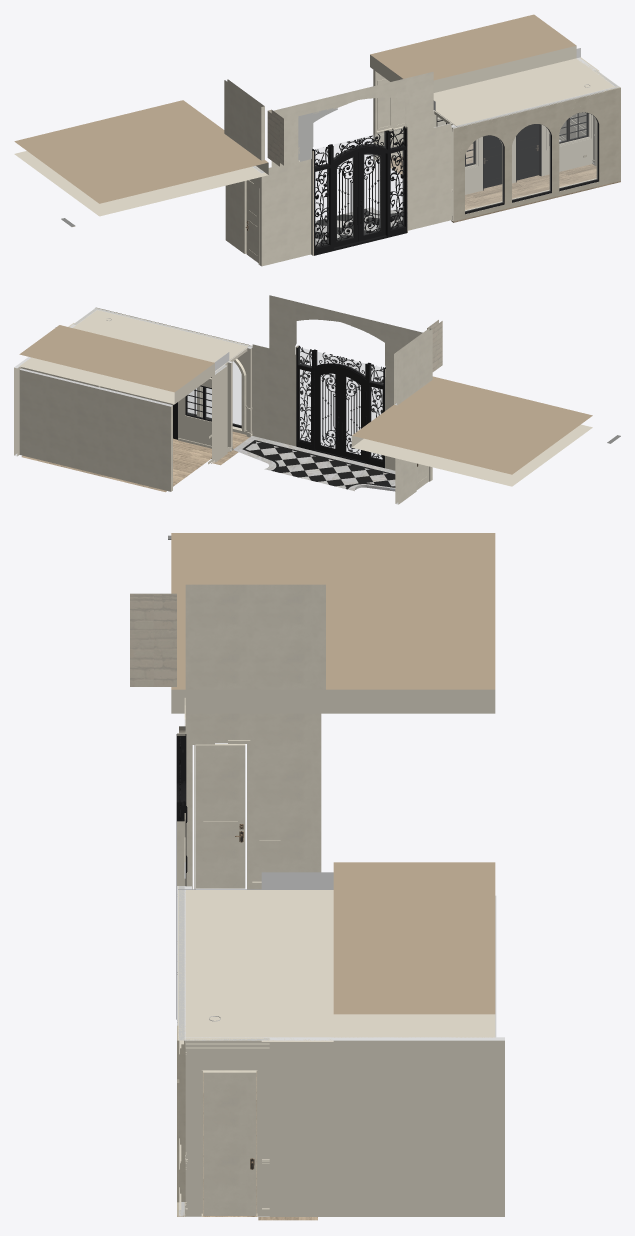
File: office-hall-ec216e2d4a14.glb
The picture shows the model from 3 angles, top to bottom: view 1: azimuth 30°, elevation 25°; view 2: azimuth 150°, elevation 25°; view 3: azimuth 270°, elevation 25°; orthographic projection. The views are drawn at different scales.
Visible parts, largest first — view 1: office-hall-look-2575515a05775d9e, office-hall-look-d5a4a1b5d3594c04, office-hall-c9e78b9ec1bb39cd, office-hall-look-34525a54e63b733b, office-hall-dbd60ee5c3733ed6, office-hall-look-bce662e26d5a5947, office-hall-c02a36d0521470a9, office-hall-38561c12898e4d43, office-hall-5cbcc744e6f960f3, office-hall-look-dbd60ee5c3733ed6, office-hall-look-746250f96522f643, office-hall-c374268555806af8 (+22 smaller); view 2: office-hall-look-2575515a05775d9e, office-hall-look-19647d6da46c2b80, office-hall-look-d5a4a1b5d3594c04, office-hall-look-34525a54e63b733b, office-hall-dbd60ee5c3733ed6, office-hall-look-e388ad8855329420, office-hall-look-3231f73bae020736, office-hall-look-bce662e26d5a5947, office-hall-look-746250f96522f643, office-hall-look-b3086b8cd368d7da, office-hall-look-26f615ec640e02ab, office-hall-look-6a051330000fbca1 (+19 smaller); view 3: office-hall-look-2575515a05775d9e, office-hall-look-6a1144f4e43410bb, office-hall-look-746250f96522f643, office-hall-look-85f0fd939e0fcc78, office-hall-dbd60ee5c3733ed6, office-hall-look-dbd60ee5c3733ed6, office-hall-cf6d22c5317ced0b, office-hall-look-3322bc58bedf5620, office-hall-68d06b361ac47823, office-hall-look-5e296beffb47d853, office-hall-c9e78b9ec1bb39cd, office-hall-look-bce662e26d5a5947.
Part boxes in pixels (x1,y1,x2,y2): office-hall-look-2575515a05775d9e: [14, 14, 576, 216]; office-hall-look-d5a4a1b5d3594c04: [261, 123, 451, 266]; office-hall-c9e78b9ec1bb39cd: [451, 90, 604, 221]; office-hall-look-34525a54e63b733b: [271, 72, 433, 166]; office-hall-dbd60ee5c3733ed6: [434, 68, 620, 127]; office-hall-look-bce662e26d5a5947: [312, 126, 407, 255]; office-hall-c02a36d0521470a9: [512, 124, 550, 199]; office-hall-38561c12898e4d43: [465, 136, 503, 211]; office-hall-5cbcc744e6f960f3: [559, 112, 597, 188]; office-hall-look-dbd60ee5c3733ed6: [433, 48, 599, 110]; office-hall-look-746250f96522f643: [224, 79, 264, 160]; office-hall-c374268555806af8: [451, 164, 620, 222]; office-hall-look-2575515a05775d9e: [19, 325, 592, 486]; office-hall-look-19647d6da46c2b80: [19, 368, 172, 491]; office-hall-look-d5a4a1b5d3594c04: [252, 344, 395, 470]; office-hall-look-34525a54e63b733b: [269, 295, 422, 378]; office-hall-dbd60ee5c3733ed6: [73, 307, 249, 362]; office-hall-look-e388ad8855329420: [246, 441, 395, 488]; office-hall-look-3231f73bae020736: [314, 368, 340, 455]; office-hall-look-bce662e26d5a5947: [296, 345, 385, 468]; office-hall-look-746250f96522f643: [394, 328, 432, 405]; office-hall-look-b3086b8cd368d7da: [299, 348, 383, 459]; office-hall-look-26f615ec640e02ab: [340, 369, 366, 461]; office-hall-look-6a051330000fbca1: [212, 364, 227, 462]; office-hall-look-2575515a05775d9e: [171, 533, 495, 1037]; office-hall-look-6a1144f4e43410bb: [269, 1037, 504, 1216]; office-hall-look-746250f96522f643: [185, 584, 325, 689]; office-hall-look-85f0fd939e0fcc78: [185, 713, 321, 889]; office-hall-dbd60ee5c3733ed6: [178, 889, 277, 1040]; office-hall-look-dbd60ee5c3733ed6: [261, 872, 333, 1041]; office-hall-cf6d22c5317ced0b: [203, 1071, 256, 1215]; office-hall-look-3322bc58bedf5620: [196, 744, 245, 888]; office-hall-68d06b361ac47823: [185, 1037, 269, 1216]; office-hall-look-5e296beffb47d853: [130, 593, 176, 686]; office-hall-c9e78b9ec1bb39cd: [177, 886, 185, 1201]; office-hall-look-bce662e26d5a5947: [176, 734, 186, 1019].
Size of the model in its own units: 18.71 by 5.17 by 5.78.
32 materials, 7 textured.
